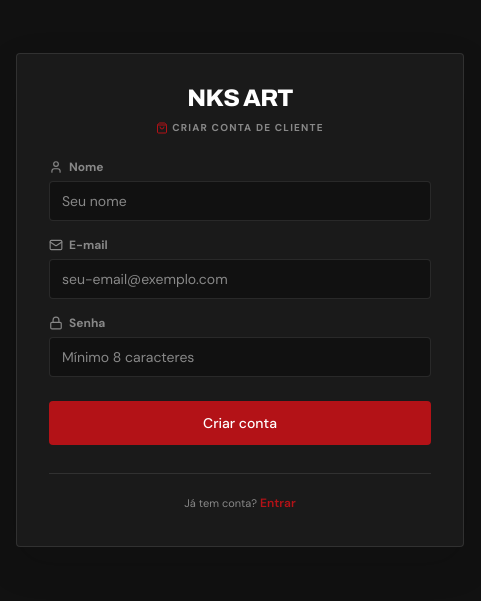
CadastroPage — estados do formulário › exibe erro genérico quando o fetch lança exceção
Type "X" into the field with placeholder "Seu nome". click: (240, 201)
box: left=49, top=181, right=431, bottom=221
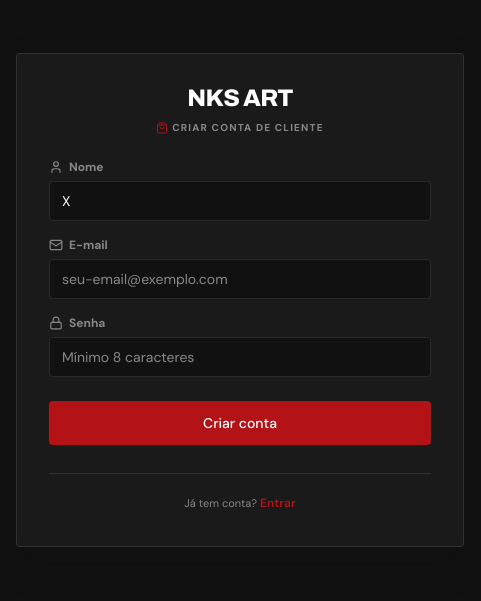
Type "x@x.com" into the field with placeholder "seu-email@exemplo.com". click: (240, 279)
box: left=49, top=259, right=431, bottom=299
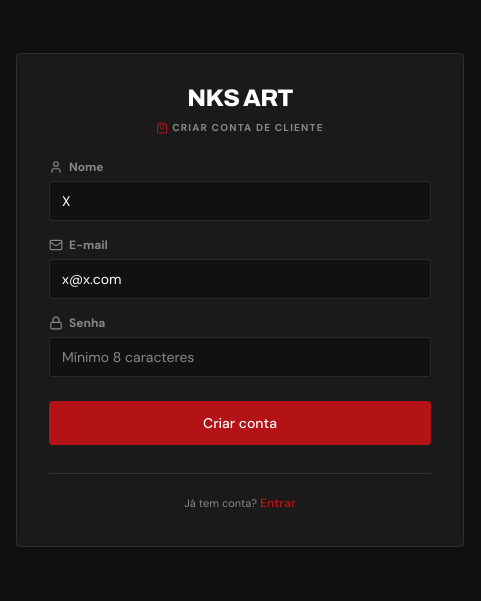
Type "senha123" into the password field with placeholder "Mínimo 8 caracteres". click: (240, 357)
box: left=49, top=337, right=431, bottom=377
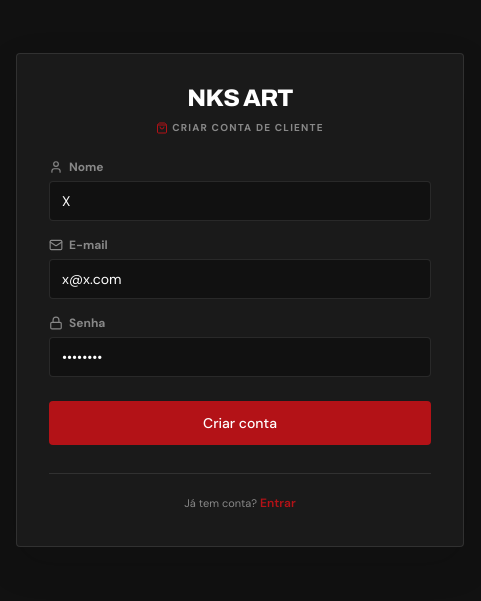
Submit the form from the button "Criar conta", box left=49, top=401, right=431, bottom=445
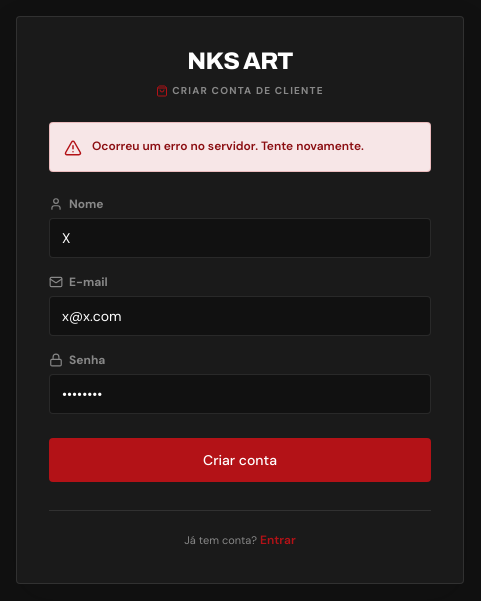
Now the text "Ocorreu um erro no servidor. Tente novamente." is shown, box left=92, top=137, right=364, bottom=155
